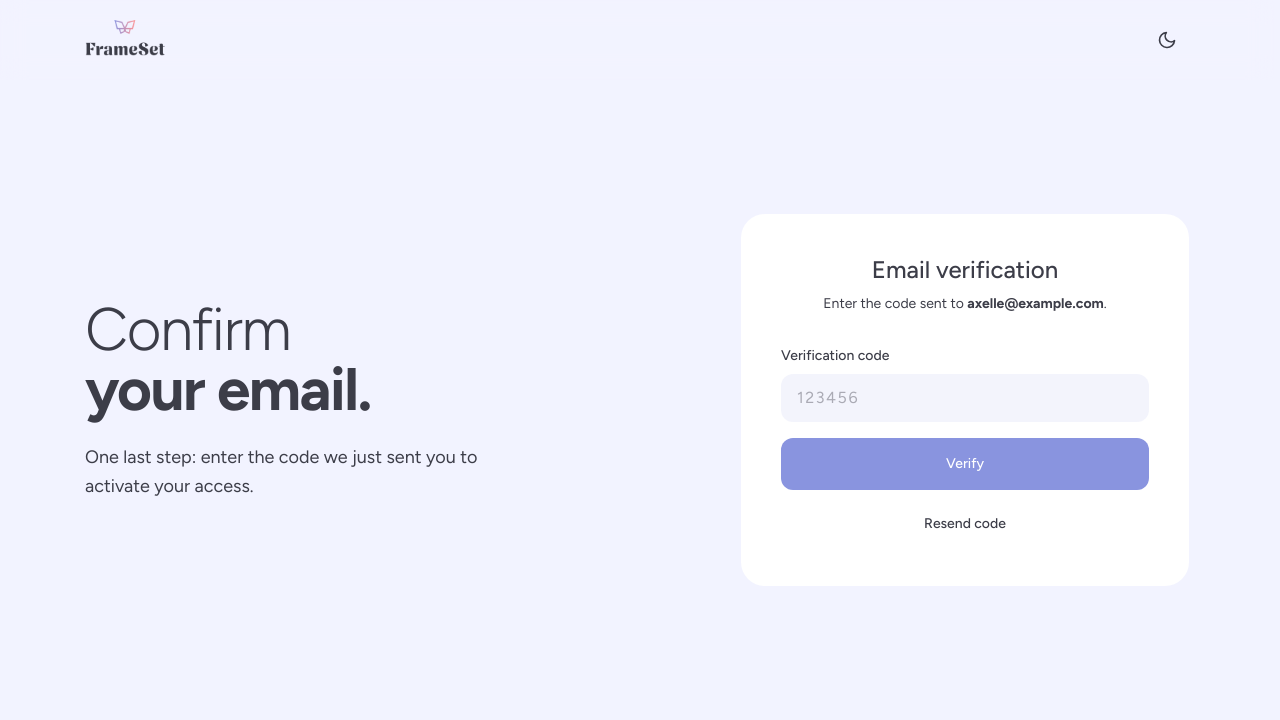
Test case: Verify › confirms when a fresh code was sent
Click the button "Resend code" at (965, 524), box [781,502,1149,546]
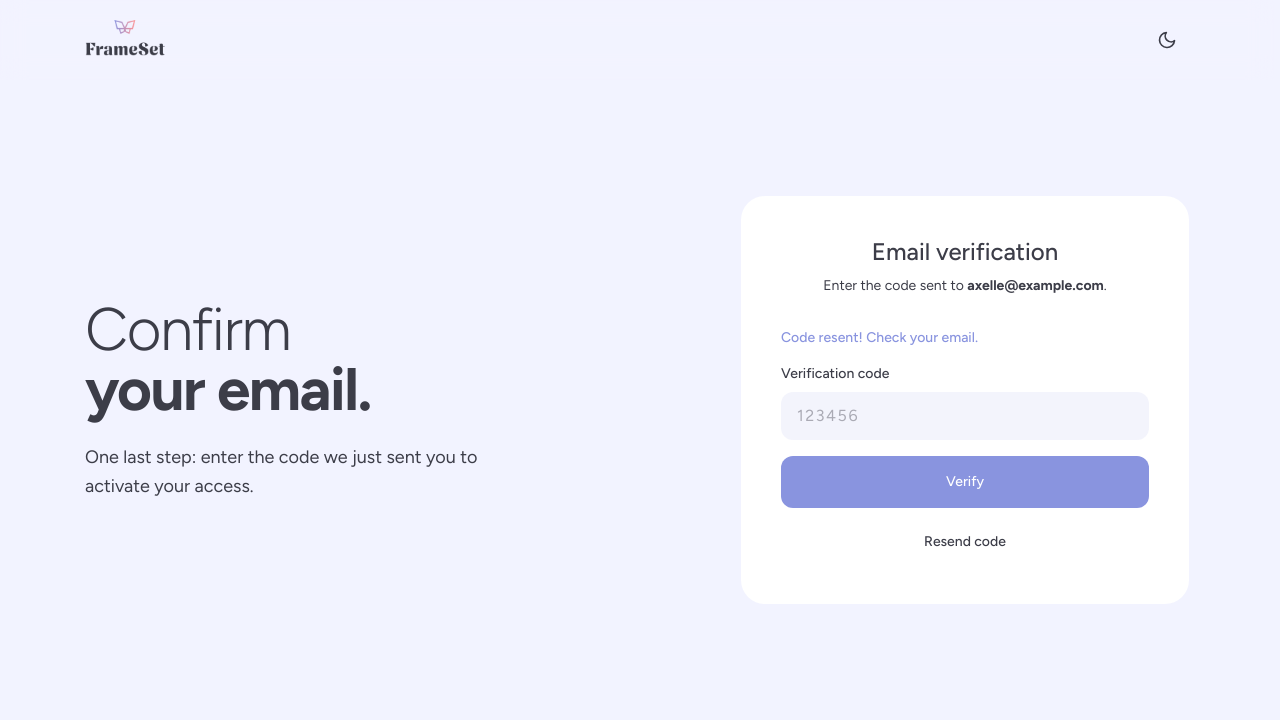
Check: the text "Code resent! Check your email." is shown, box [781,329,978,346]
